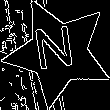N_S: (34, 25, 82, 80)
